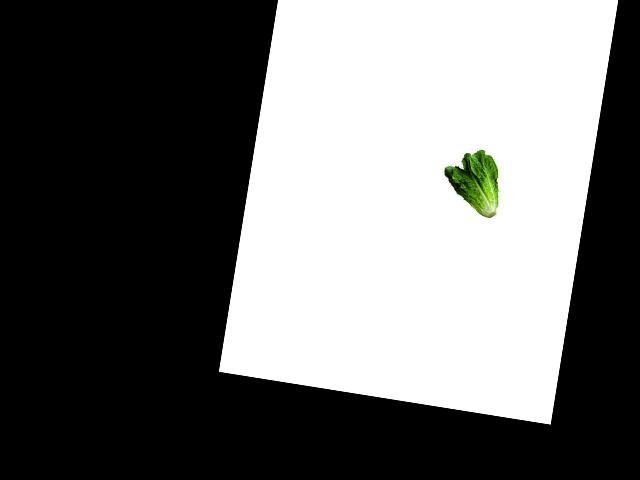lettuce: (435, 144, 511, 223)
